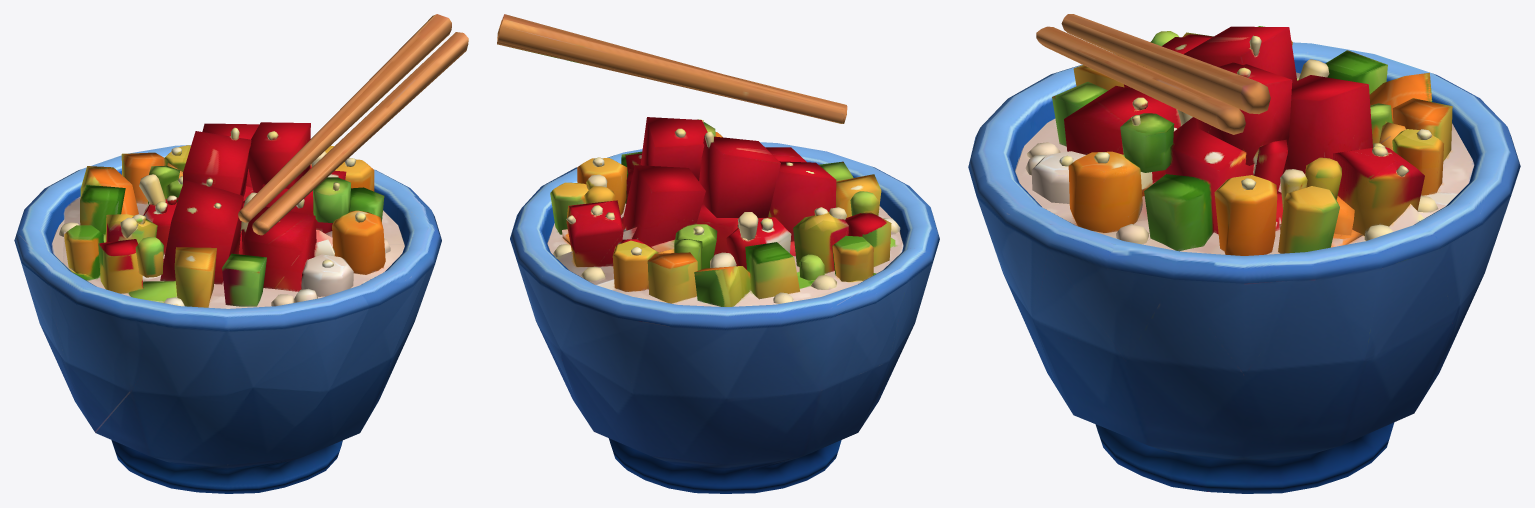
Rendered from Meshy_AI_Sushi_Bowl_with_Chops_0919211327_texture.glb.
3 views of the same model, side by side, from view 1: azimuth 30°, elevation 25°; view 2: azimuth 150°, elevation 25°; view 3: azimuth 270°, elevation 25° (orthographic). The views are drawn at different scales.
Size of the model in its own units: 1 by 0.877 by 0.9023.
1 material, 1 textured.
